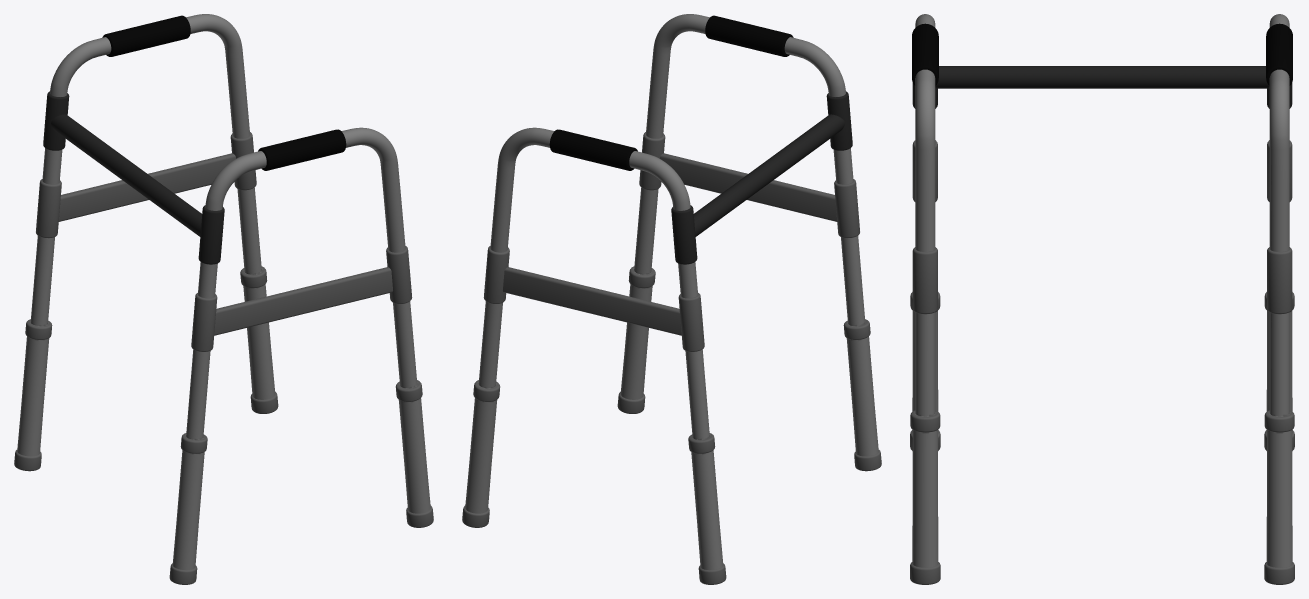
Rendered from Walker_01.fbx.
3 views of the same model, side by side, from view 1: azimuth 30°, elevation 25°; view 2: azimuth 150°, elevation 25°; view 3: azimuth 270°, elevation 25° (orthographic). The views are drawn at different scales.
Visible parts, largest first — view 1: Walker_01; view 2: Walker_01; view 3: Walker_01.
Boxes of the visible parts, box(x1,y1,x2,y2) form: Walker_01: box(14, 14, 433, 584); Walker_01: box(462, 14, 881, 584); Walker_01: box(910, 14, 1294, 584).
Size of the model in its own units: 56.23 by 85.11 by 63.12.
Materials: 1 (1 with a texture image).
